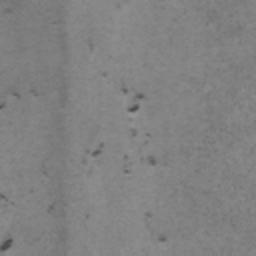Oxide scale of temperature system: (81, 86, 157, 174), (0, 83, 41, 111), (51, 228, 70, 256), (0, 237, 13, 253), (157, 234, 168, 244), (5, 5, 14, 13), (0, 189, 6, 201), (46, 204, 55, 212), (143, 210, 152, 218), (101, 70, 109, 77)
